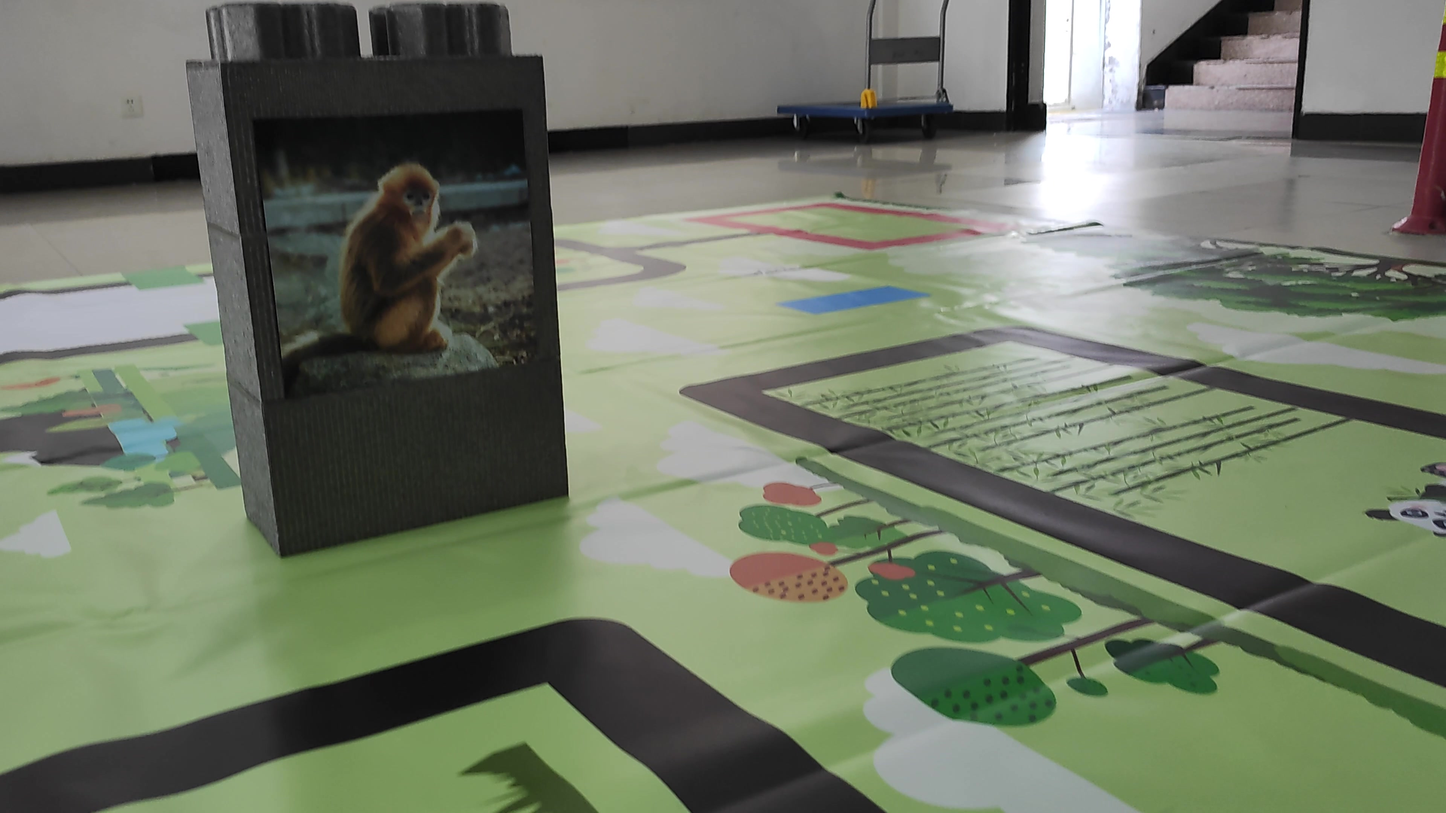monkey: (273, 119, 527, 380)
